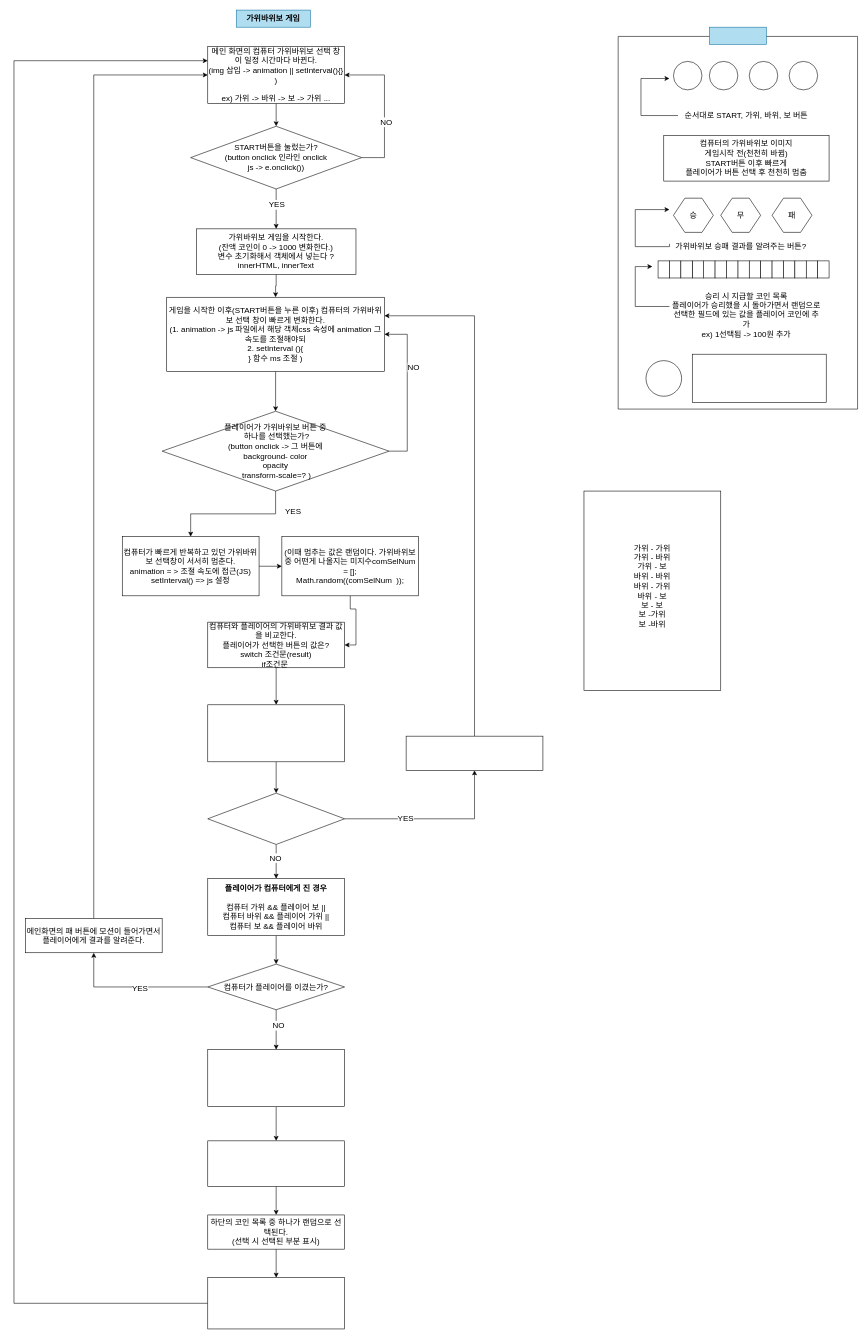
Some shapes in this 868 by 1339 pixel diagram are drawn without their labels. The box of each missing label's shape, as (x1, y1, x2, y2) in pixels:
UI 구성안: (709, 27, 766, 44)
메인화면의 무 버튼에 모션이 들어가면서 플레이어에게 결과를 알려준다.: (406, 736, 543, 770)
메인화면의 승 버튼에 모션이 들어가면서 플레이어에게 결과를 알려준다.: (207, 1140, 345, 1186)
비긴 경우 컴퓨터값이랑 플레이어 값이 같냐?: (207, 704, 345, 762)
선택된 필드에 있는 값을 잔액코인에 추가한다. ex) 잔액 900, 선택된 필드의 값 3 = 잔액 1200: (207, 1277, 345, 1329)
컴퓨터와 플레이어가 비겼는가?: (207, 793, 345, 844)
코인 잔액(기본 값 1000) START버튼 클릭 시 100 차감 승리 시 코인 목록에서 선택 된 값 추가: (692, 354, 826, 403)
코인이미지: (645, 360, 682, 396)
플레이어가 컴퓨터를 이긴 경우 컴퓨터 가위 && 플레이어 바위 || 컴퓨터 바위 && 플레이어 보 || 컴퓨터 보 && 플레이어 가위: (207, 1049, 345, 1107)
